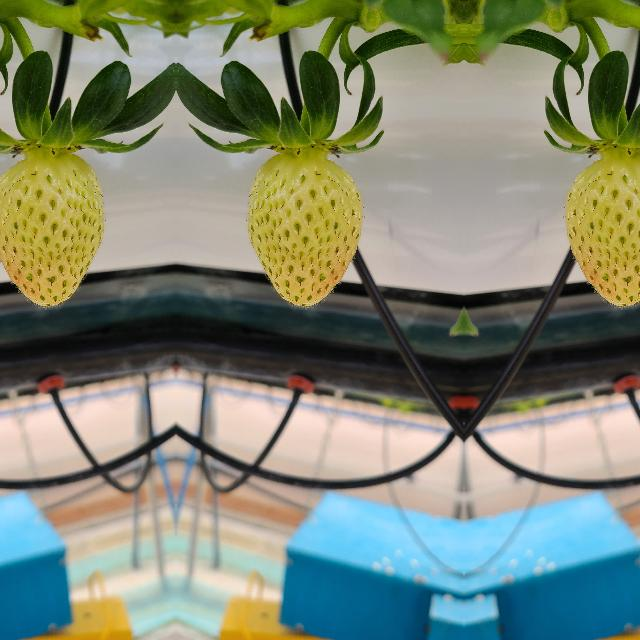Health_25: (244, 153, 364, 309), (0, 153, 106, 309), (562, 153, 640, 309)
